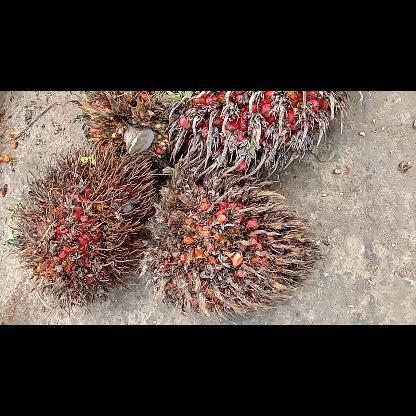Terlalu masak: (141, 176, 327, 322), (14, 140, 160, 314), (166, 91, 350, 185), (74, 90, 198, 162)
